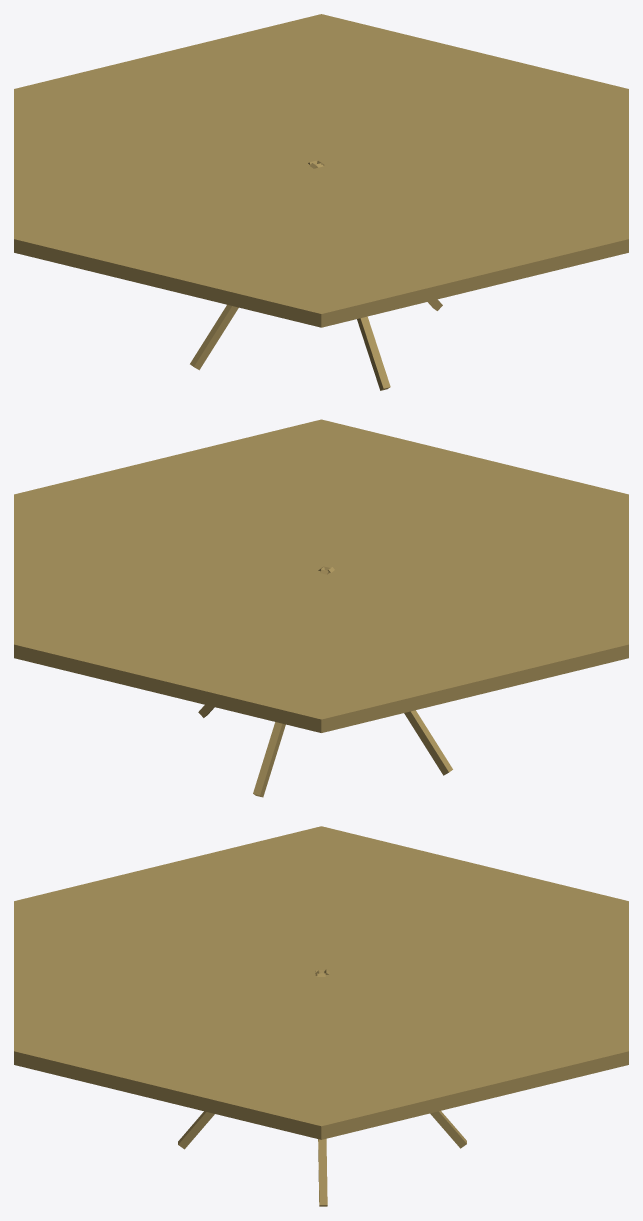
The model's file is HexTable.fbx.
3 renders of one model, top to bottom at view 1: azimuth 30°, elevation 25°; view 2: azimuth 150°, elevation 25°; view 3: azimuth 270°, elevation 25°, orthographic.
Parts seen in each view (by area): view 1: HexTable2; view 2: HexTable2; view 3: HexTable2.
Part boxes in pixels (left/top/right/bottom): HexTable2: left=14, top=14, right=628, bottom=390; HexTable2: left=14, top=419, right=628, bottom=797; HexTable2: left=14, top=826, right=628, bottom=1206.
Bounding box in the file's own units: 9.12 × 2.51 × 7.9.
